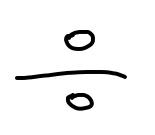div: (15, 29, 126, 110)
